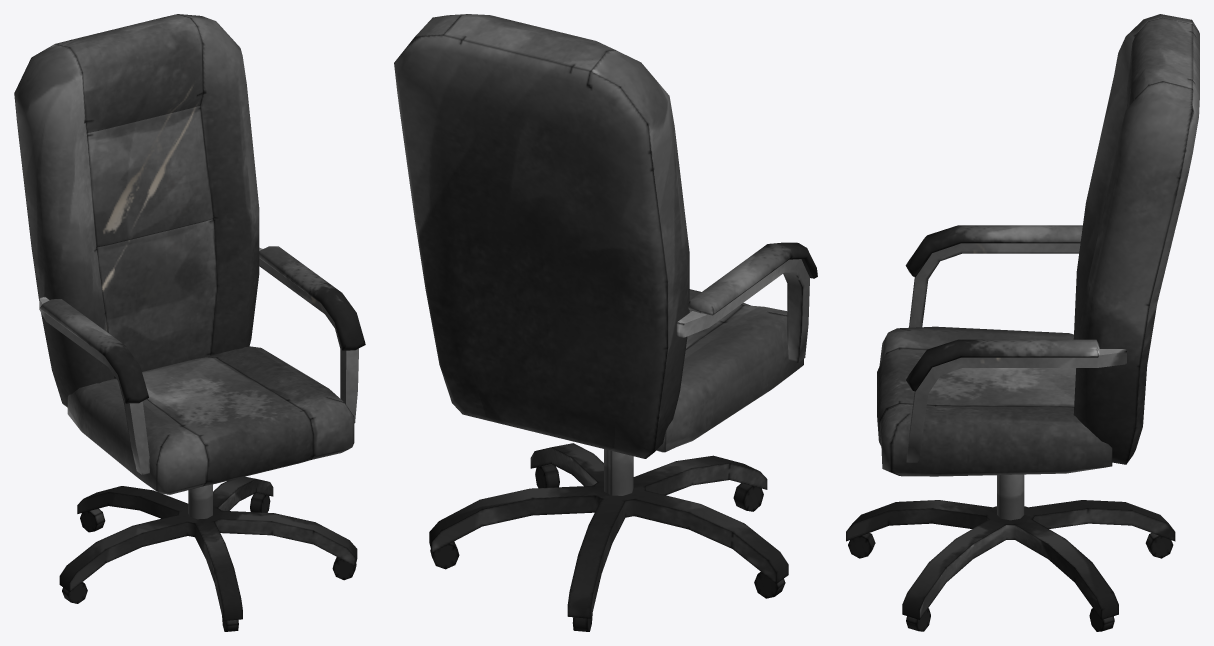
The model's file is OfficeChair_Asset.fbx.
The picture shows the model from 3 angles, left to right: view 1: azimuth 30°, elevation 25°; view 2: azimuth 150°, elevation 25°; view 3: azimuth 270°, elevation 25°; orthographic projection. The views are drawn at different scales.
Parts seen in each view (by area): view 1: OfficeChair, OfficeChairWheels, OfficeChairArmRestR, OfficeChairArmRestL; view 2: OfficeChair, OfficeChairWheels, OfficeChairArmRestR; view 3: OfficeChair, OfficeChairWheels, OfficeChairArmRestL, OfficeChairArmRestR.
Boxes of the visible parts, x1,y1,x2,y2 form: OfficeChair: [14, 14, 354, 494]; OfficeChairWheels: [59, 476, 357, 631]; OfficeChairArmRestR: [39, 296, 149, 474]; OfficeChairArmRestL: [259, 246, 365, 423]; OfficeChair: [394, 14, 803, 458]; OfficeChairWheels: [429, 443, 788, 631]; OfficeChairArmRestR: [676, 242, 817, 362]; OfficeChair: [877, 14, 1199, 476]; OfficeChairWheels: [846, 474, 1175, 631]; OfficeChairArmRestL: [906, 339, 1126, 462]; OfficeChairArmRestR: [905, 225, 1082, 327].
Bounding box in the file's own units: 66.08 × 73.21 × 120.
